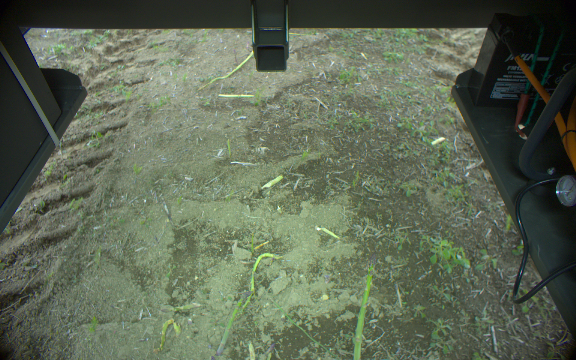aspa: (349, 252, 379, 360), (219, 289, 253, 359), (247, 251, 283, 289), (262, 341, 277, 360)
